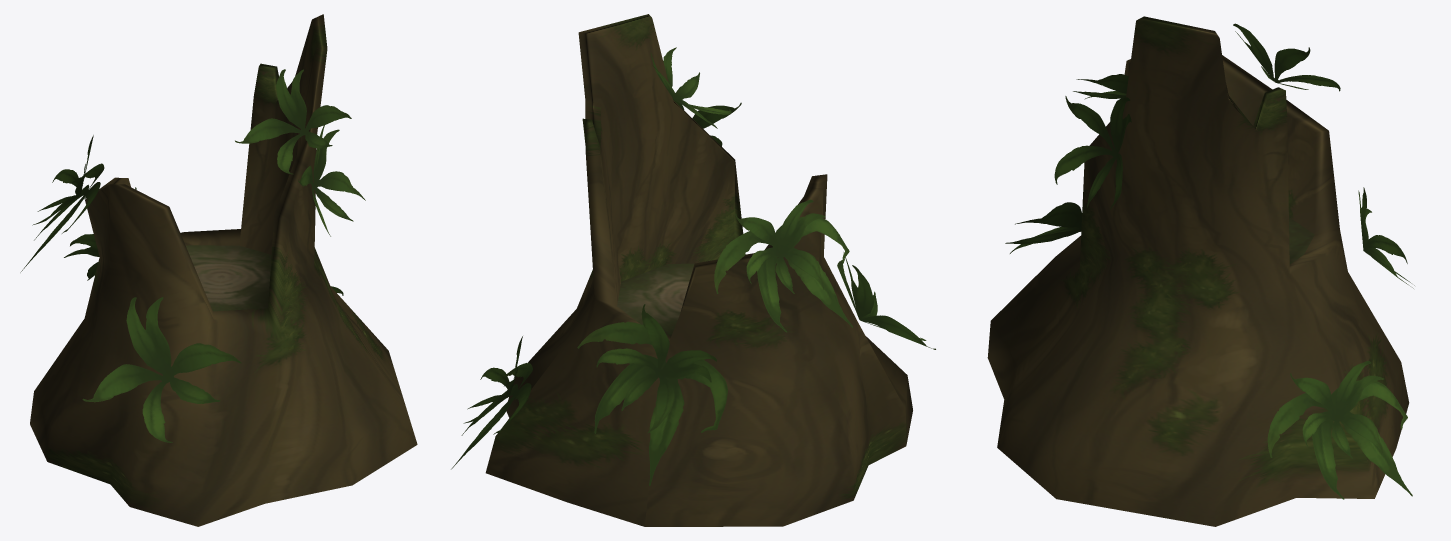
Rendered from Tree_Stump_01.fbx.
3 views of the same model, side by side, from view 1: azimuth 30°, elevation 25°; view 2: azimuth 150°, elevation 25°; view 3: azimuth 270°, elevation 25° (orthographic). The views are drawn at different scales.
Parts seen in each view (by area): view 1: Stump_01, Stump_Details_01; view 2: Stump_01, Stump_Details_01; view 3: Stump_01, Stump_Details_01.
Boxes of the visible parts, x1,y1,x2,y2 form: Stump_01: (30,14,417,526); Stump_Details_01: (20,69,365,442); Stump_01: (485,14,912,526); Stump_Details_01: (451,47,935,485); Stump_01: (987,16,1409,526); Stump_Details_01: (1005,23,1414,499).
Bounding box in the file's own units: 4.77 × 4.45 × 4.14.
Materials: 2 (2 with a texture image).
